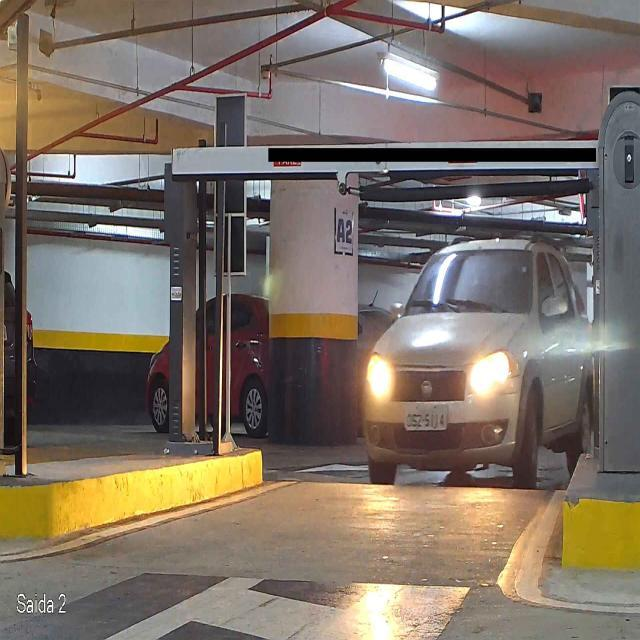old_plate: (403, 401, 449, 432)
